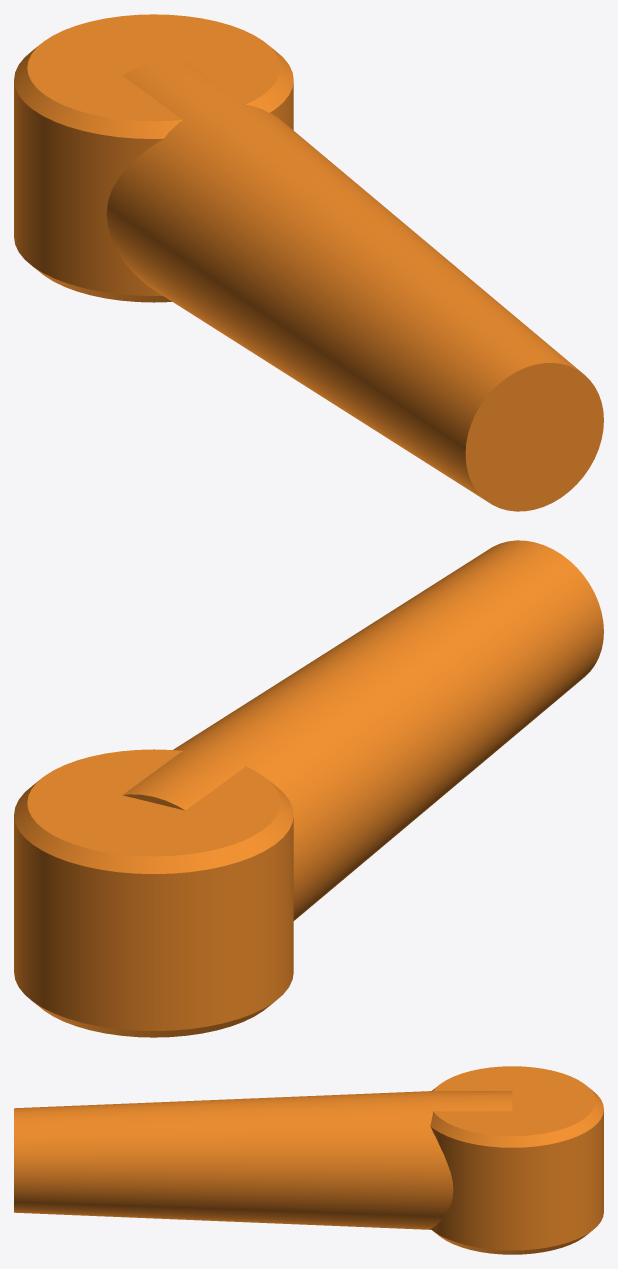
The picture shows the model from 3 angles, top to bottom: view 1: azimuth 30°, elevation 25°; view 2: azimuth 150°, elevation 25°; view 3: azimuth 270°, elevation 25°; orthographic projection. The views are drawn at different scales.
Parts seen in each view (by area): view 1: link3; view 2: link3; view 3: link3.
Boxes of the visible parts, left/top/right/bottom form: link3: left=14, top=14, right=603, bottom=511; link3: left=14, top=540, right=603, bottom=1037; link3: left=14, top=1066, right=603, bottom=1254.
Bounding box in the file's own units: 0.0787 × 0.06 × 0.2538.
